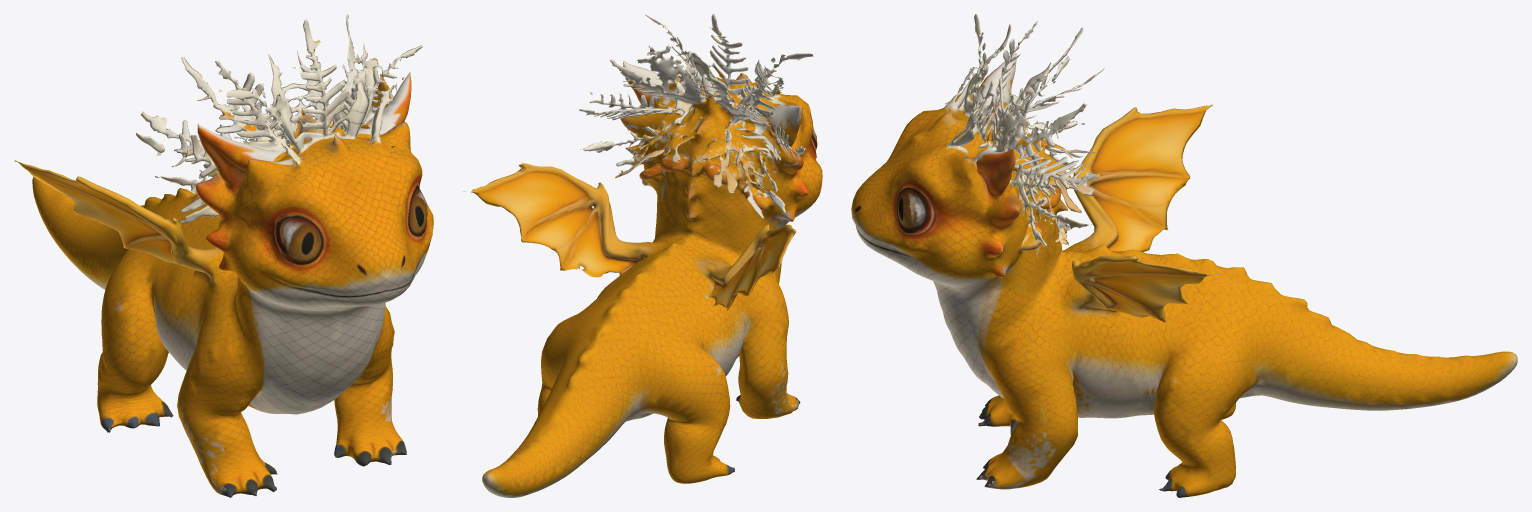
Rendered from sand_dragonet.glb.
3 views of the same model, side by side, from view 1: azimuth 30°, elevation 25°; view 2: azimuth 150°, elevation 25°; view 3: azimuth 270°, elevation 25° (orthographic). The views are drawn at different scales.
Size of the model in its own units: 1.22 by 1.41 by 2.
1 material, 1 textured.
